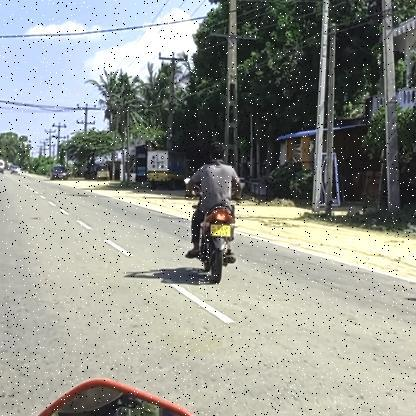motorcycle: (183, 204, 242, 285)
